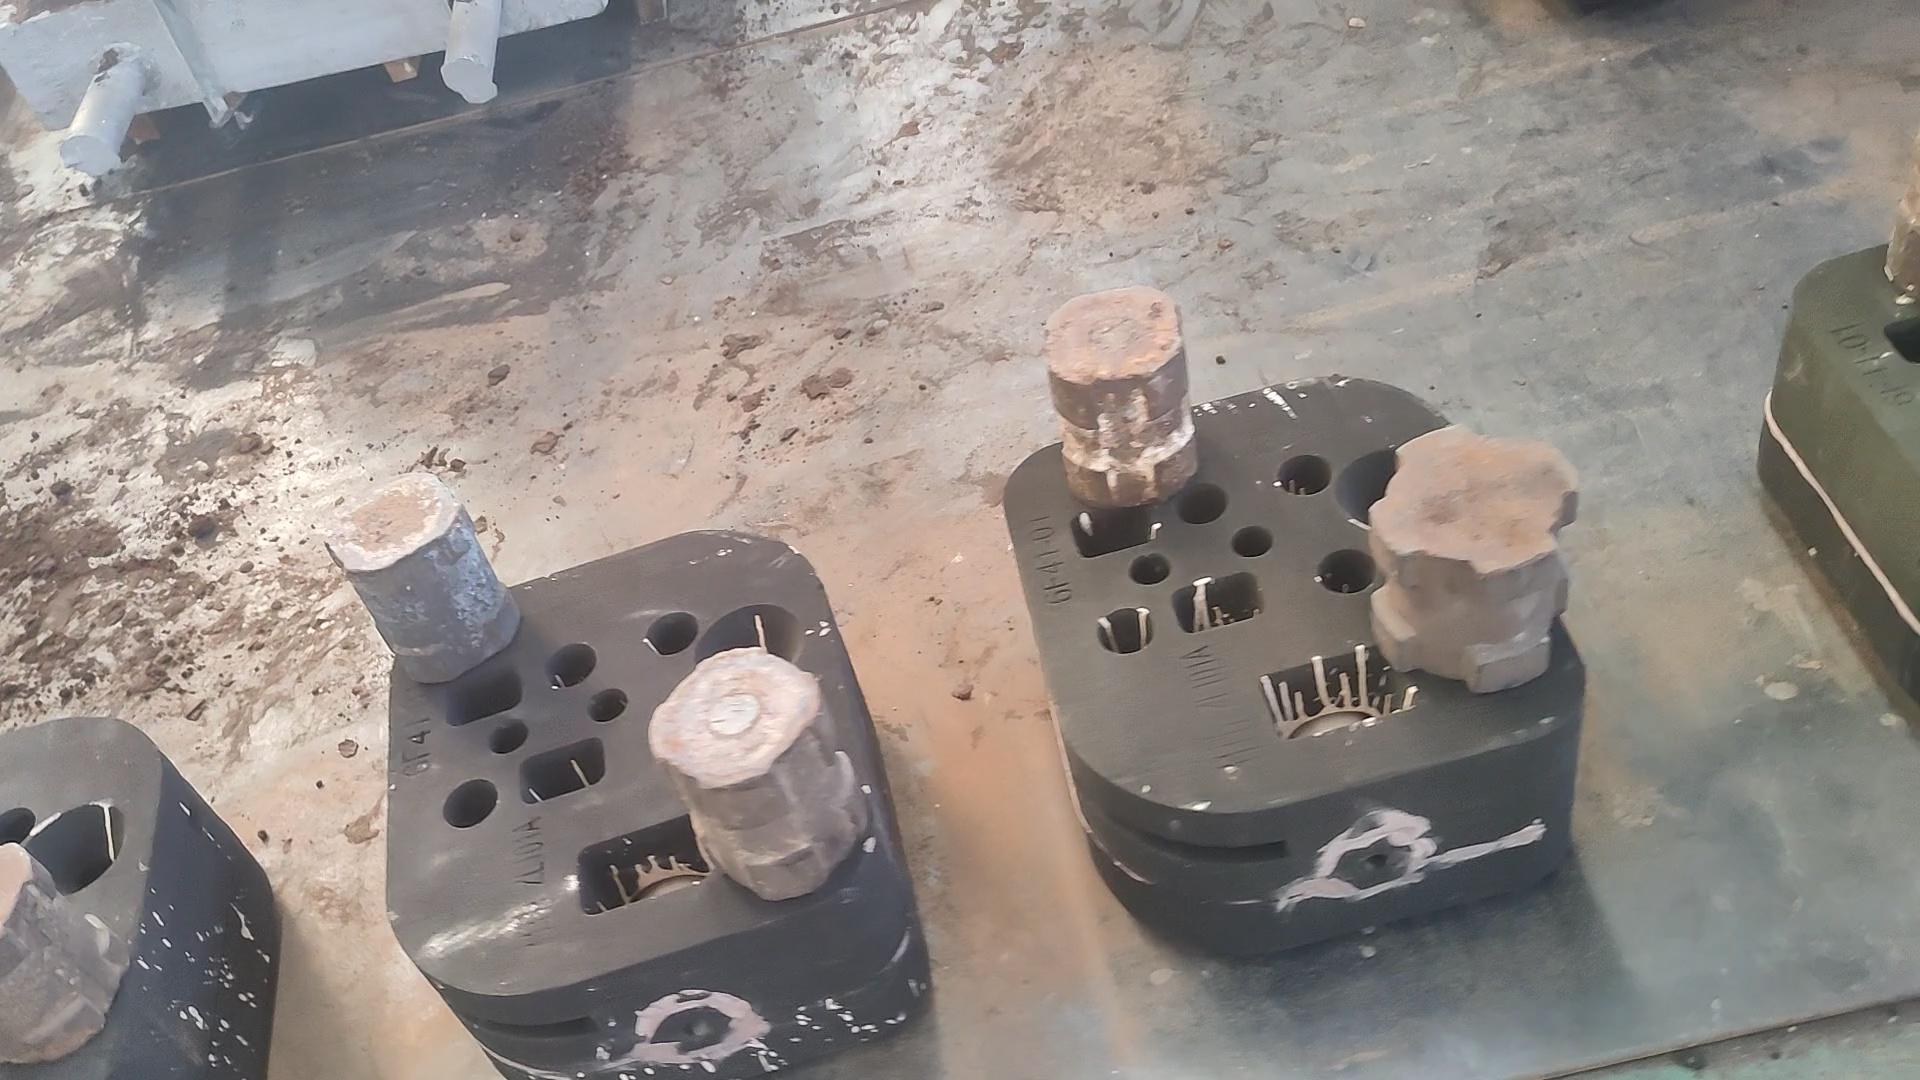pouring hole: (1333, 444, 1451, 539), (20, 804, 124, 897), (694, 603, 802, 684)
